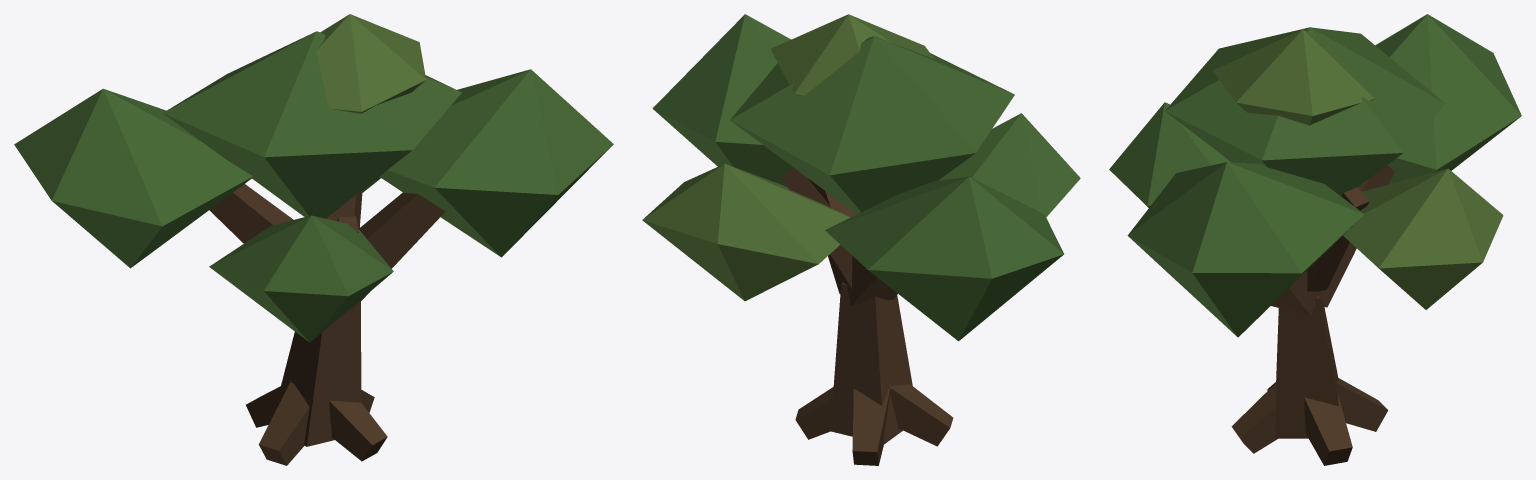
File: tree_broad_c.glb
3 views of the same model, side by side, from view 1: azimuth 30°, elevation 25°; view 2: azimuth 150°, elevation 25°; view 3: azimuth 270°, elevation 25° (orthographic). The views are drawn at different scales.
Visible parts, largest first — view 1: crown.002, crown.001, crown, crown.004, crown.005, bole, fork.001, root.002, fork, root.003, root.001; view 2: crown.002, crown, crown.003, crown.001, bole, crown.004, crown.005, root.002, root.001, root, fork, fork.002 (+1 smaller); view 3: crown.001, crown.002, crown.003, crown, crown.005, bole, crown.004, root, root.003, root.001, fork.002, fork (+1 smaller).
Boxes of the visible parts, x1,y1,x2,y2 form: crown.002: (163,31,461,218); crown.001: (379,69,613,257); crown: (14,88,253,268); crown.004: (209,215,393,342); crown.005: (316,14,426,113); bole: (280,302,361,446); fork.001: (348,192,445,312); root.002: (258,380,309,465); fork: (209,184,293,243); root.003: (329,400,387,461); root.001: (246,379,296,427); crown.002: (730,36,1014,214); crown: (825,176,1063,341); crown.003: (642,164,850,301); crown.001: (652,14,808,187); bole: (830,282,912,444); crown.004: (938,113,1080,217); crown.005: (770,14,934,95); root.002: (888,384,953,446); root.001: (852,379,892,465); root: (795,387,843,439); fork: (847,256,897,305); fork.002: (781,168,852,287); crown.001: (1127,162,1364,337); crown.002: (1165,27,1445,195); crown.003: (1343,168,1503,309); crown: (1375,14,1521,184); crown.005: (1213,29,1374,125); bole: (1275,295,1340,438); crown.004: (1109,102,1230,207); root: (1304,393,1352,465); root.003: (1231,383,1277,453); root.001: (1336,378,1388,431); fork.002: (1307,187,1369,291); fork: (1318,165,1394,307).
Size of the model in its own units: 78.44 by 67.57 by 59.74.
